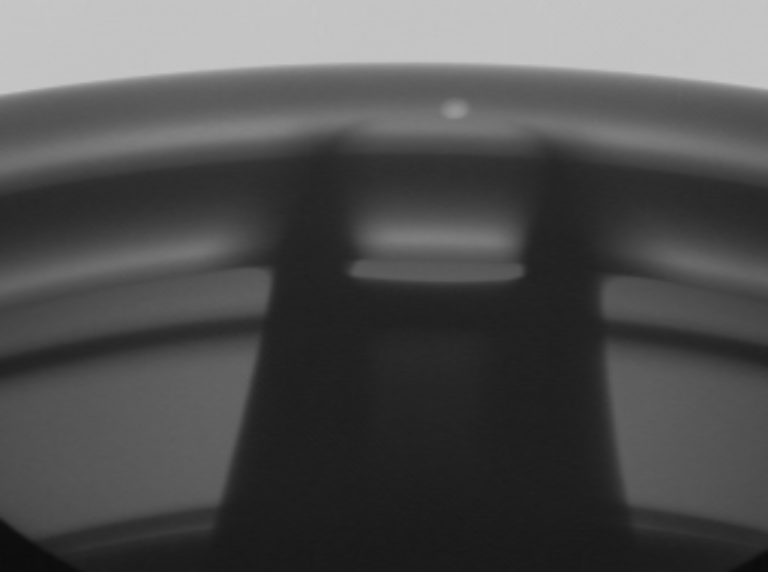defect: (432, 89, 492, 132)
